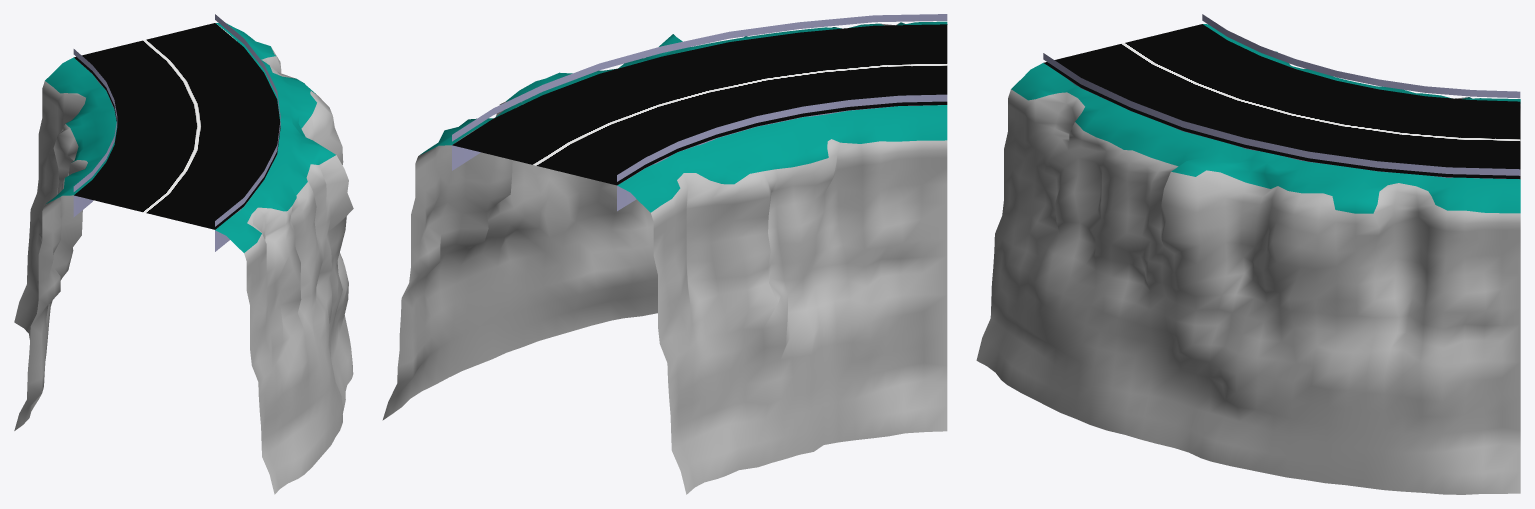
3 renders of one model, left to right at view 1: azimuth 30°, elevation 25°; view 2: azimuth 150°, elevation 25°; view 3: azimuth 270°, elevation 25°, orthographic. The views are drawn at different scales.
Visible parts, largest first — view 1: cliff_2, Mesh, cliff_1, guardRail_2, guardRail_1, pylon; view 2: cliff_1, cliff_2, Mesh, guardRail_2, guardRail_1, pylon; view 3: cliff_2, Mesh, guardRail_2, guardRail_1, cliff_1.
Part boxes in pixels (x1=…): cliff_2: x1=215, y1=23, x2=353, y2=494; Mesh: x1=74, y1=23, x2=280, y2=229; cliff_1: x1=14, y1=57, x2=117, y2=430; guardRail_2: x1=215, y1=14, x2=280, y2=226; guardRail_1: x1=73, y1=49, x2=117, y2=191; pylon: x1=73, y1=60, x2=276, y2=251; cliff_1: x1=617, y1=105, x2=947, y2=494; cliff_2: x1=382, y1=21, x2=947, y2=420; Mesh: x1=452, y1=24, x2=947, y2=185; guardRail_2: x1=452, y1=14, x2=947, y2=141; guardRail_1: x1=617, y1=94, x2=947, y2=181; pylon: x1=452, y1=105, x2=940, y2=211; cliff_2: x1=976, y1=63, x2=1520, y2=494; Mesh: x1=1043, y1=24, x2=1520, y2=178; guardRail_2: x1=1043, y1=53, x2=1520, y2=175; guardRail_1: x1=1202, y1=14, x2=1520, y2=98; cliff_1: x1=1203, y1=24, x2=1520, y2=178.
Size of the model in its own units: 26.44 by 17.56 by 29.63.
